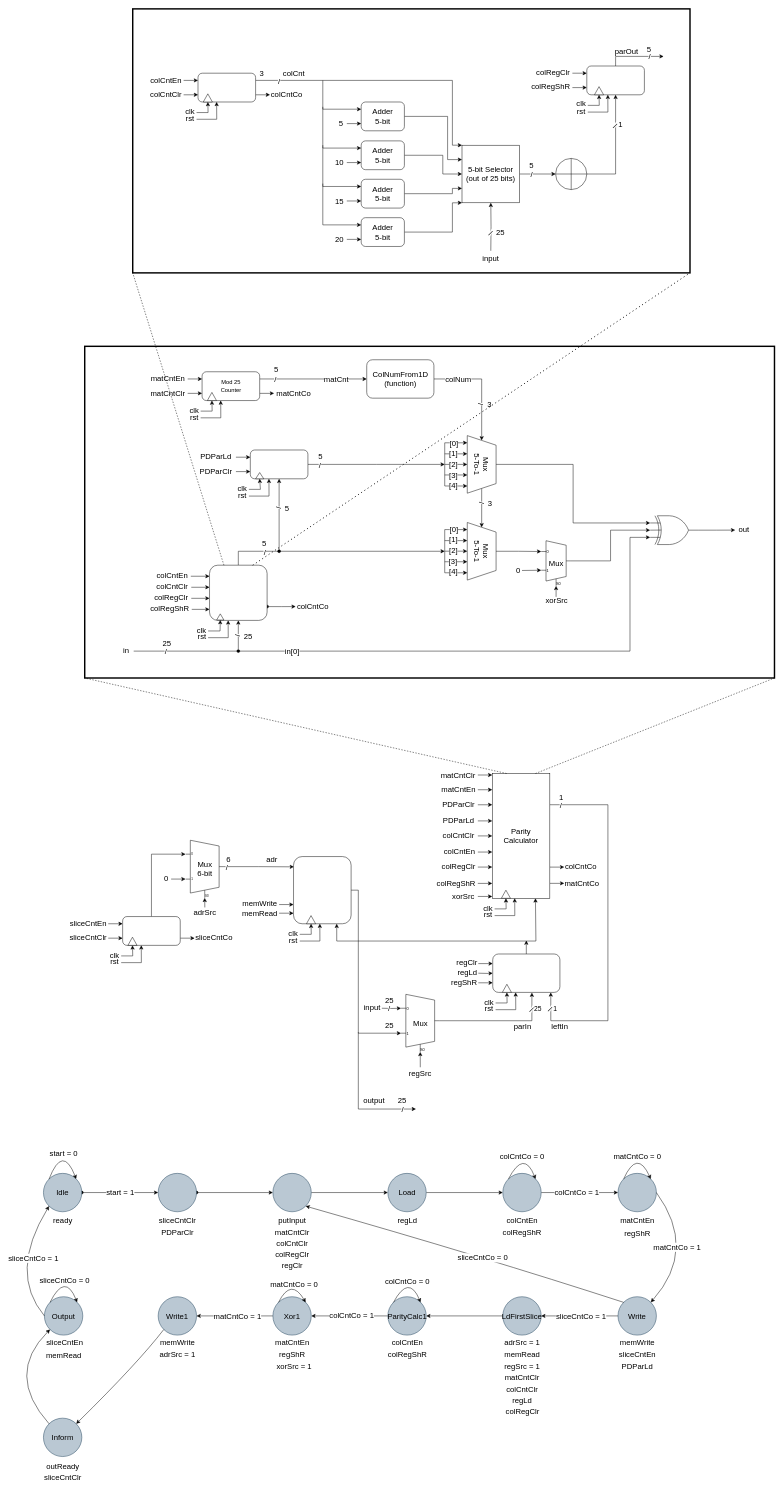
This 783x1493 diagram has some shape labels left out. The box of each missing label's shape, as (x1, y1, x2, y2) in pixels:
5 Bit Register (Prev Depth Parity): (250, 450, 308, 479)
Column Parity Calculator: (209, 565, 267, 620)
Init: (158, 1173, 197, 1212)
Memory 64 x 25: (293, 856, 351, 924)
Mod 5 Counter: (198, 73, 256, 102)
Mod 64 Counter: (122, 916, 180, 945)
ParityCalc: (502, 1173, 541, 1212)
Request: (272, 1173, 311, 1212)
ShiftReg 25-bit: (492, 954, 560, 992)
ShiftReg 5-bit: (586, 66, 644, 95)
Xor: (618, 1173, 656, 1212)
